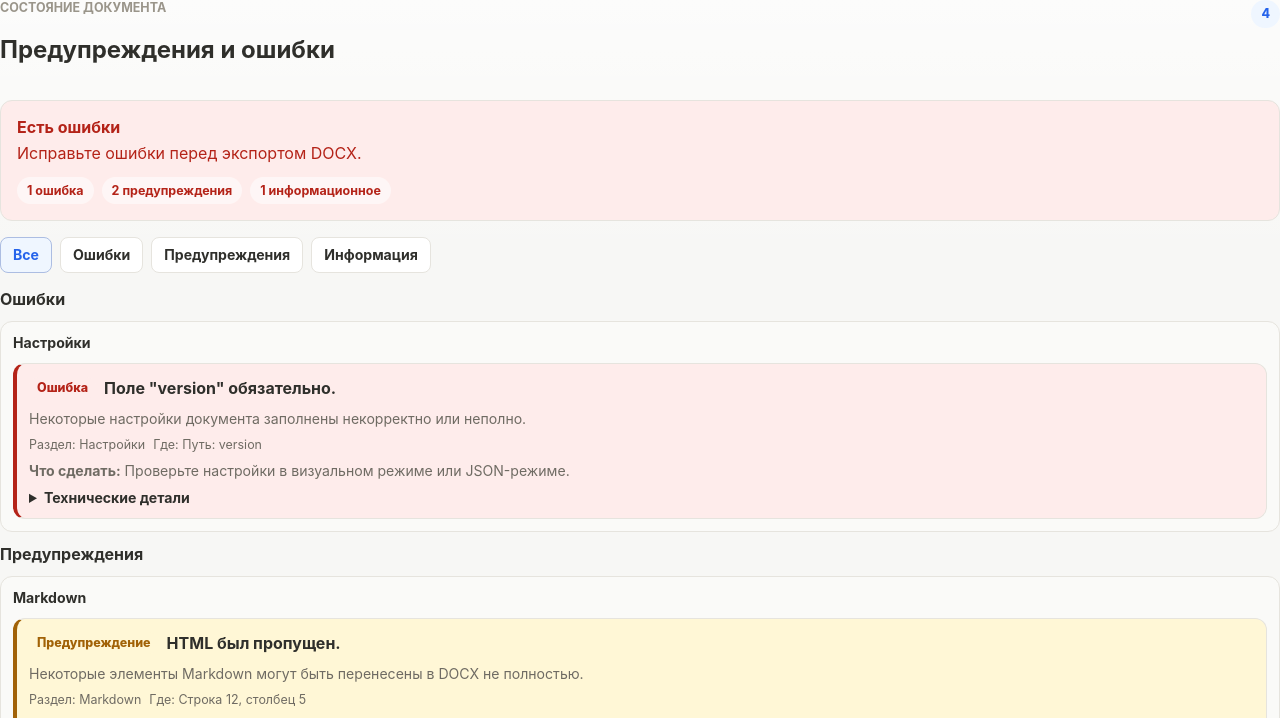
Scenario: DiagnosticsPanel › filters by info
Click the button "Информация": click(371, 255) [311, 237, 431, 273]
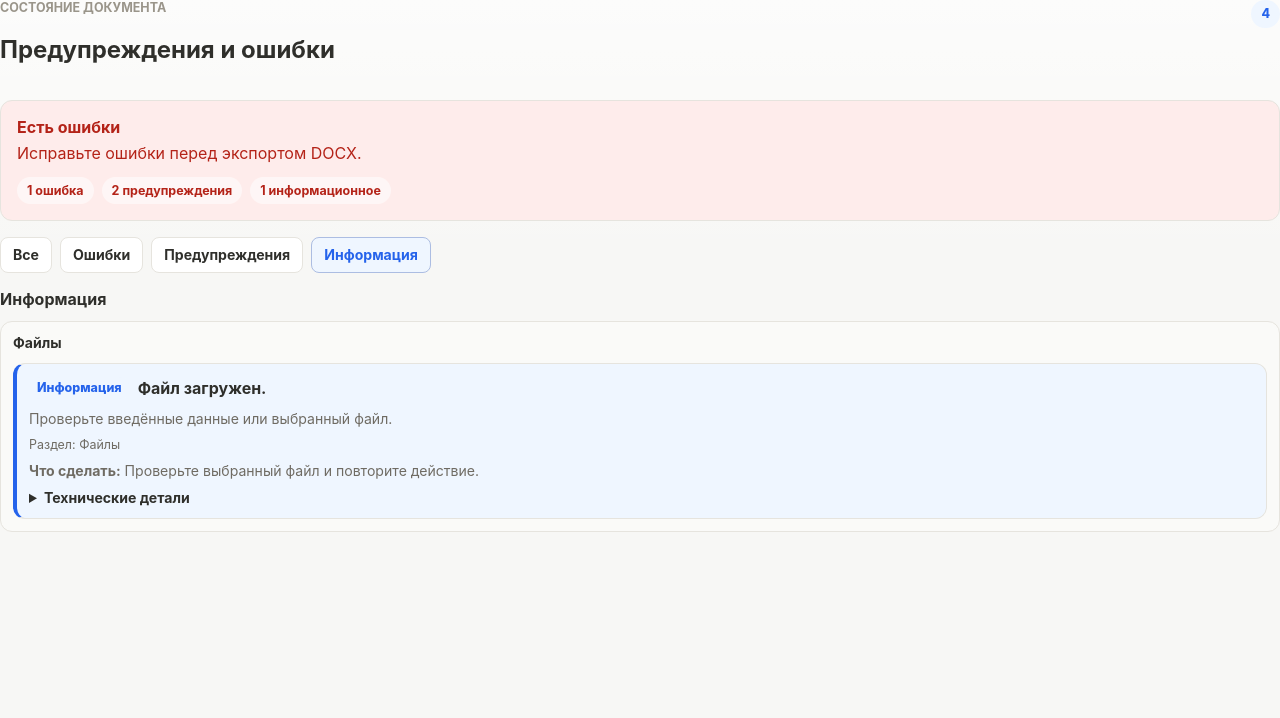
Expected: the text "Файл загружен." is shown, [138, 376, 266, 400]
Now the text "HTML был пропущен." is gone
